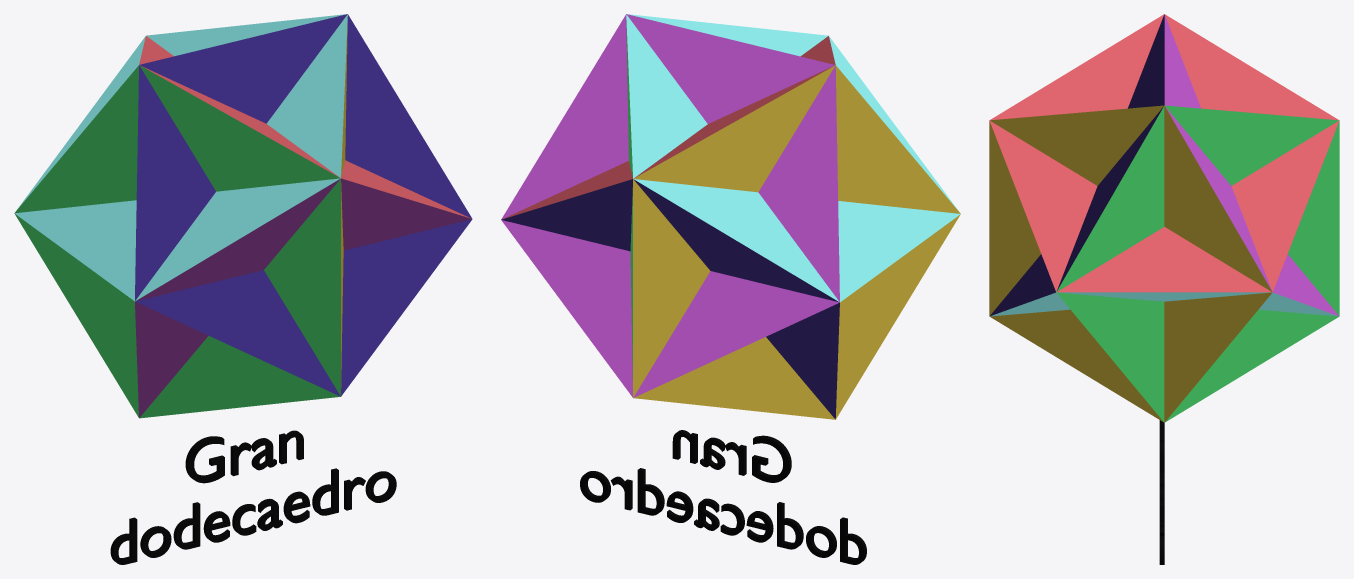
File: gran_dodecaedro.glb
3 views of the same model, side by side, from view 1: azimuth 30°, elevation 25°; view 2: azimuth 150°, elevation 25°; view 3: azimuth 270°, elevation 25° (orthographic). The views are drawn at different scales.
Parts seen in each view (by area): view 1: Solid.002, Text; view 2: Solid.002, Text; view 3: Solid.002, Text.
Part boxes in pixels (x1=…): Solid.002: x1=14, y1=14, x2=472, y2=418; Text: x1=110, y1=430, x2=396, y2=564; Solid.002: x1=501, y1=14, x2=960, y2=419; Text: x1=580, y1=430, x2=866, y2=564; Solid.002: x1=989, y1=14, x2=1339, y2=422; Text: x1=1159, y1=420, x2=1164, y2=564.
Bounding box in the file's own units: 2.99 × 4.18 × 2.99.
